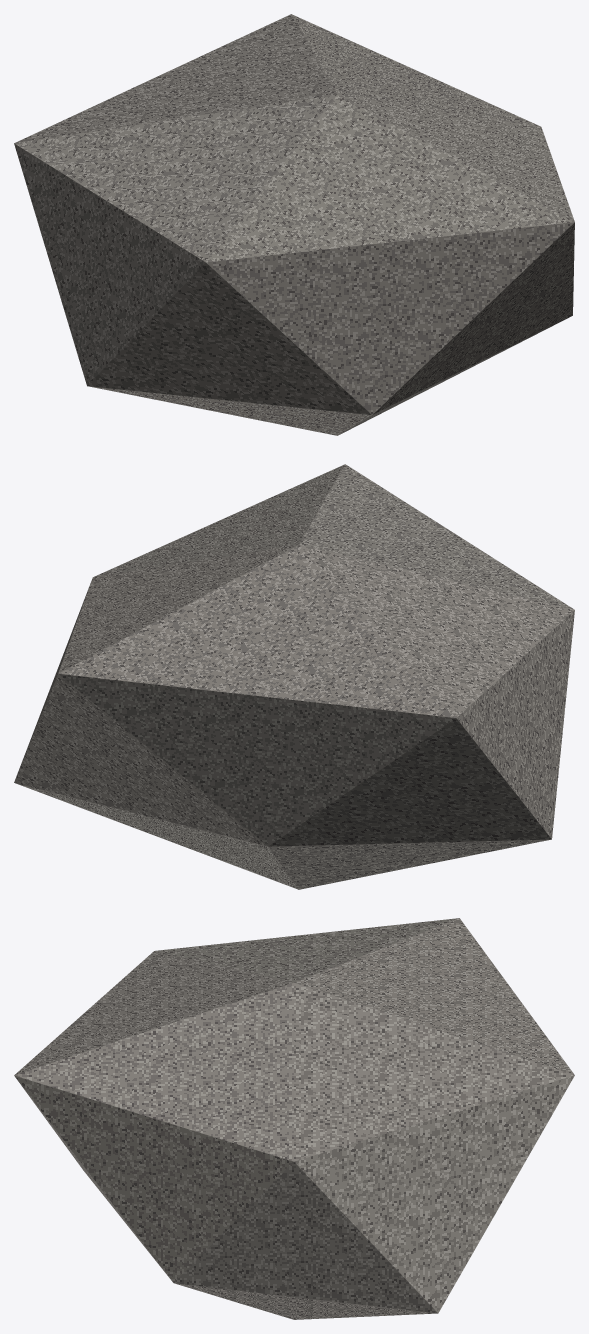
File: rock_boulder_a.glb
3 renders of one model, top to bottom at view 1: azimuth 30°, elevation 25°; view 2: azimuth 150°, elevation 25°; view 3: azimuth 270°, elevation 25°, orthographic. The views are drawn at different scales.
Visible parts, largest first — view 1: Body.011; view 2: Body.011; view 3: Body.011.
Part boxes in pixels (box(x1,y1,x2,y2)): Body.011: box(14, 14, 574, 435); Body.011: box(14, 464, 574, 889); Body.011: box(14, 918, 574, 1319).
Bounding box in the file's own units: 1.72 × 1.22 × 1.84.
Materials: 1 (1 with a texture image).
